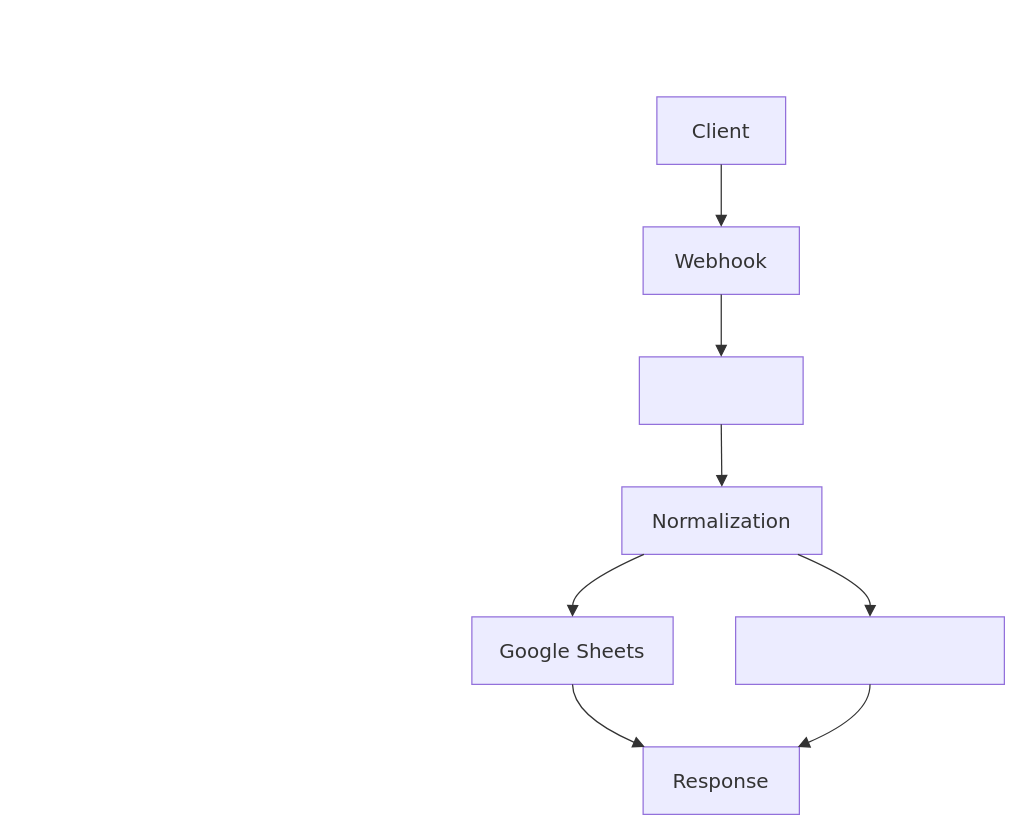
The diagram is 1026 pixels wide and 836 high, and some of its shapes have lost their labels. Here are the shapes that lost their labels. From the top down, the box of each, then its label:
(638, 356, 803, 424): Validation
(734, 616, 1004, 684): Telegram Notification
